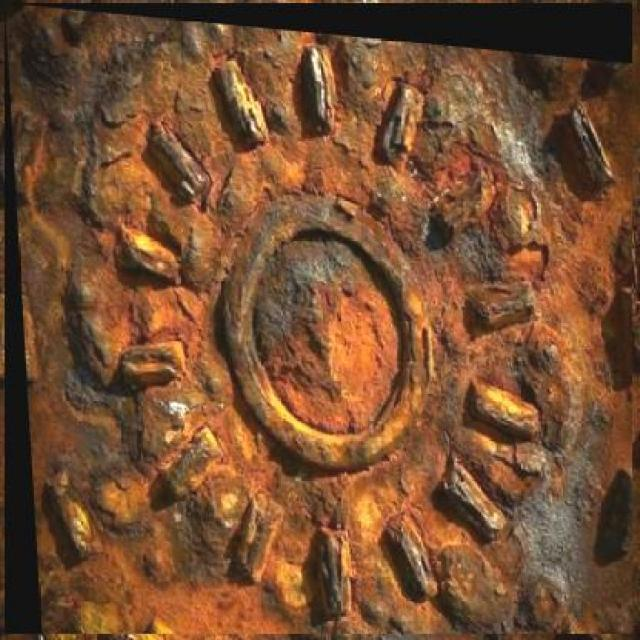Manhole: (5, 2, 632, 635)
